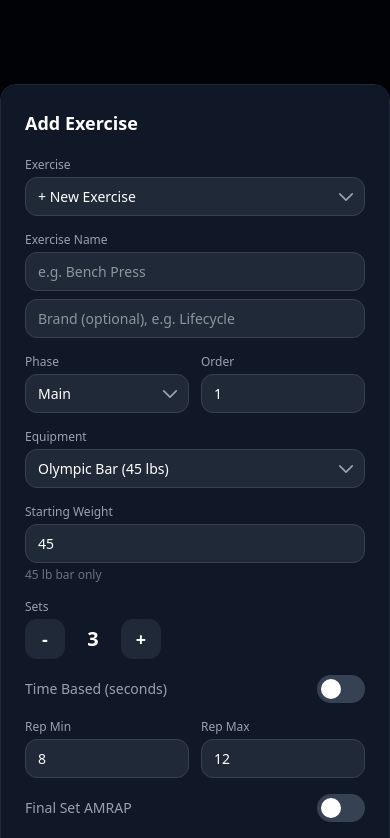
Test case: ExerciseEditor › creating a new exercise › resets the weight field to the new type's default when equipment type changes
select order: [Exercise picker, Phase, Equipment]
Select "PowerBlock (5–50 lbs)" in the dropdown below "Equipment" at coordinates (195, 469), box [25,449,365,488]
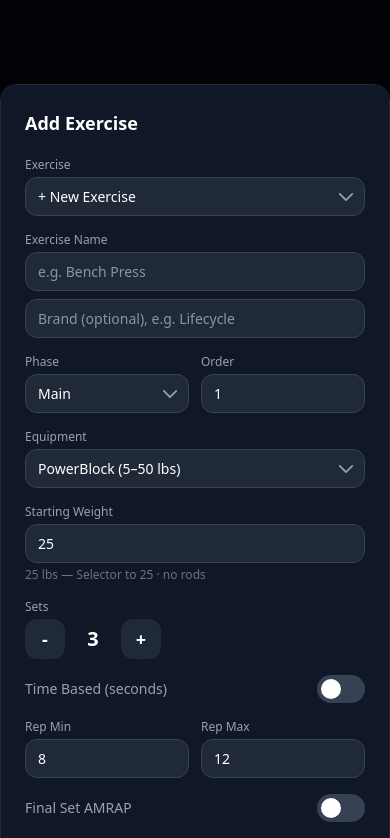
Check: the number field below "Starting Weight" holds "25", box [25,524,365,563]
